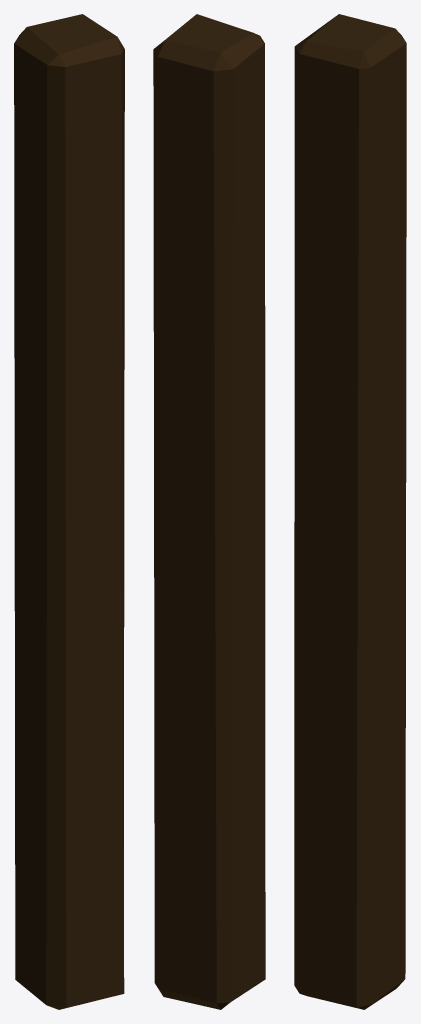
Rendered from 3D_BUILD_BALK3.FBX.
The picture shows the model from 3 angles, left to right: view 1: azimuth 30°, elevation 25°; view 2: azimuth 150°, elevation 25°; view 3: azimuth 330°, elevation 25°; orthographic projection.
Visible parts, largest first — view 1: 3D_BUILD_BALK3; view 2: 3D_BUILD_BALK3; view 3: 3D_BUILD_BALK3.
Boxes of the visible parts, <box> form: 3D_BUILD_BALK3: <box>14,14,124,1009</box>; 3D_BUILD_BALK3: <box>153,14,265,1009</box>; 3D_BUILD_BALK3: <box>294,14,406,1009</box>.
Size of the model in its own units: 32.57 by 373 by 33.17.
